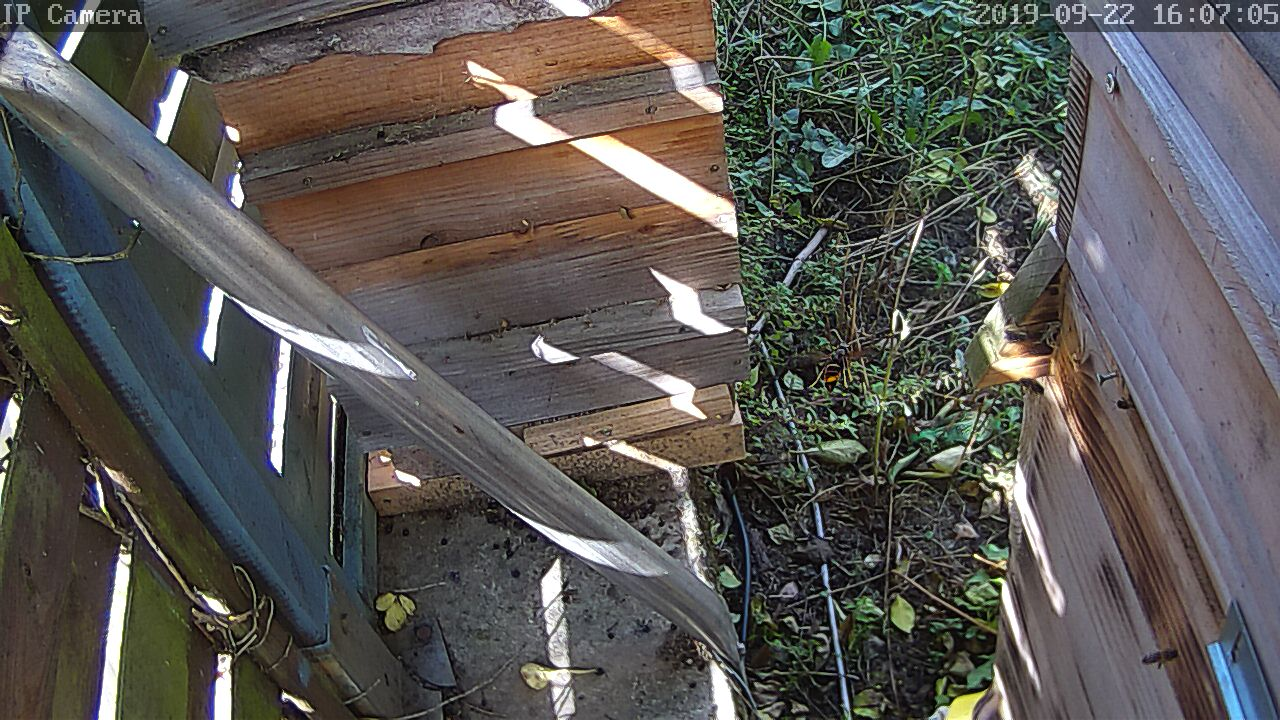bee: (1136, 638, 1180, 673), (1107, 392, 1138, 421)
hornet: (809, 349, 864, 393)
